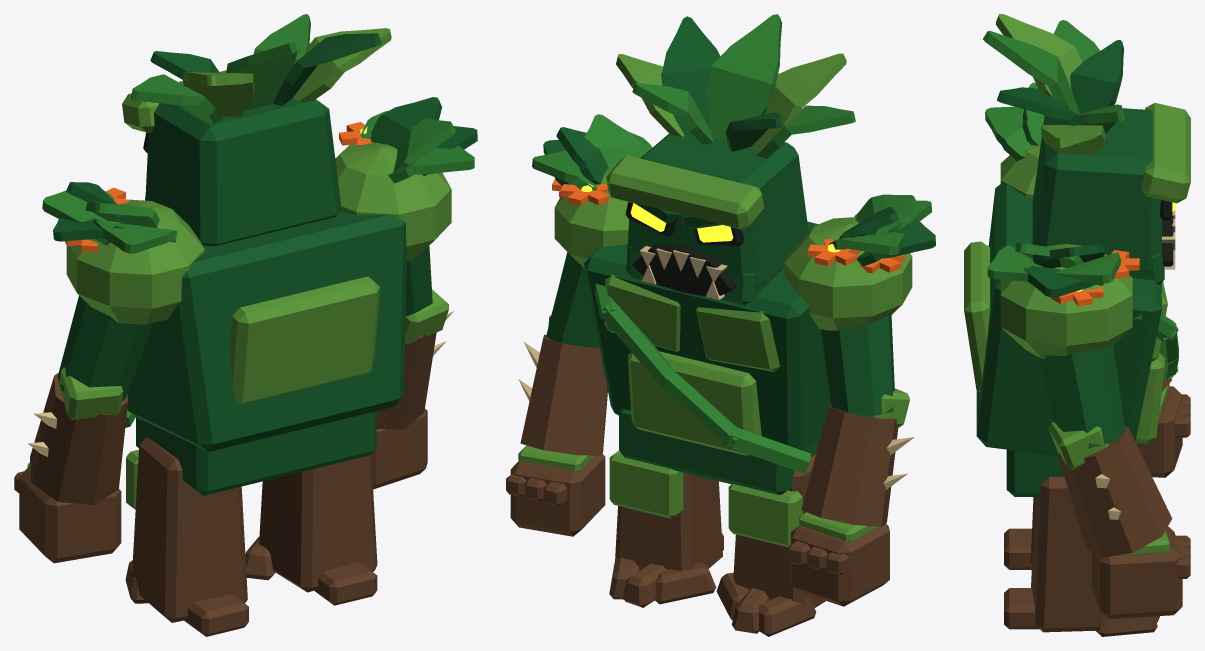
File: boss_jungle.glb
The picture shows the model from 3 angles, left to right: view 1: azimuth 30°, elevation 25°; view 2: azimuth 150°, elevation 25°; view 3: azimuth 270°, elevation 25°; orthographic projection. The views are drawn at different scales.
Visible parts, largest first — view 1: Grass__145A28, Wood__604028, LeafyGrass__569634, Grass__2C802E, SmoothPlastic__FF6E1E; view 2: Grass__145A28, LeafyGrass__569634, Wood__604028, Grass__2C802E, SmoothPlastic__161A14, SmoothPlastic__FF6E1E, Wood__D6BE8C, Neon__FFBA28; view 3: Grass__145A28, Wood__604028, LeafyGrass__569634, Grass__2C802E, SmoothPlastic__FF6E1E, SmoothPlastic__161A14, Wood__D6BE8C.
Boxes of the visible parts, <box> form: Grass__145A28: <box>53,33,477,495</box>; Wood__604028: <box>14,332,436,636</box>; LeafyGrass__569634: <box>27,28,451,509</box>; Grass__2C802E: <box>42,14,474,427</box>; SmoothPlastic__FF6E1E: <box>65,122,372,252</box>; Grass__145A28: <box>543,16,935,494</box>; LeafyGrass__569634: <box>518,53,912,547</box>; Wood__604028: <box>506,334,898,636</box>; Grass__2C802E: <box>532,14,932,472</box>; SmoothPlastic__161A14: <box>625,202,744,296</box>; SmoothPlastic__FF6E1E: <box>552,179,904,273</box>; Wood__D6BE8C: <box>518,246,914,489</box>; Neon__FFBA28: <box>581,183,882,259</box>; Grass__145A28: <box>976,40,1164,496</box>; Wood__604028: <box>1004,379,1190,636</box>; LeafyGrass__569634: <box>964,14,1190,555</box>; Grass__2C802E: <box>983,20,1178,379</box>; SmoothPlastic__FF6E1E: <box>1051,250,1139,306</box>; SmoothPlastic__161A14: <box>1159,200,1173,266</box>; Wood__D6BE8C: <box>1095,210,1175,519</box>.
Bounding box in the file's own units: 16.68 × 22.23 × 8.17.
